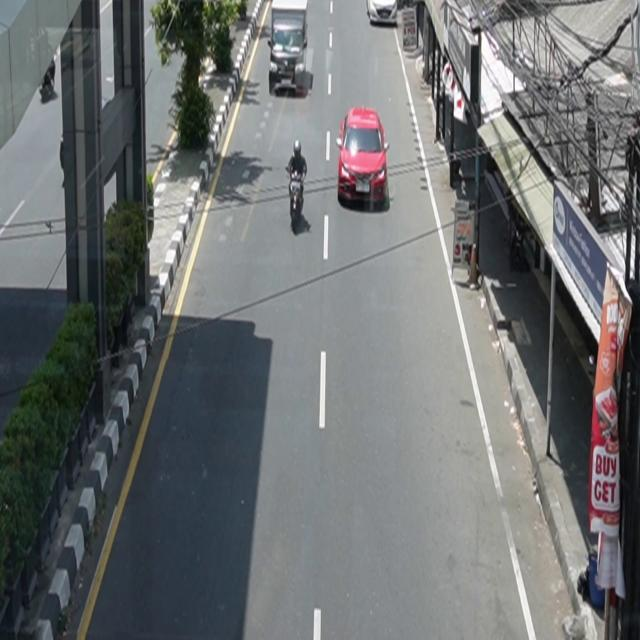car: (337, 107, 390, 207), (366, 1, 398, 26)
truck: (269, 1, 310, 97)
